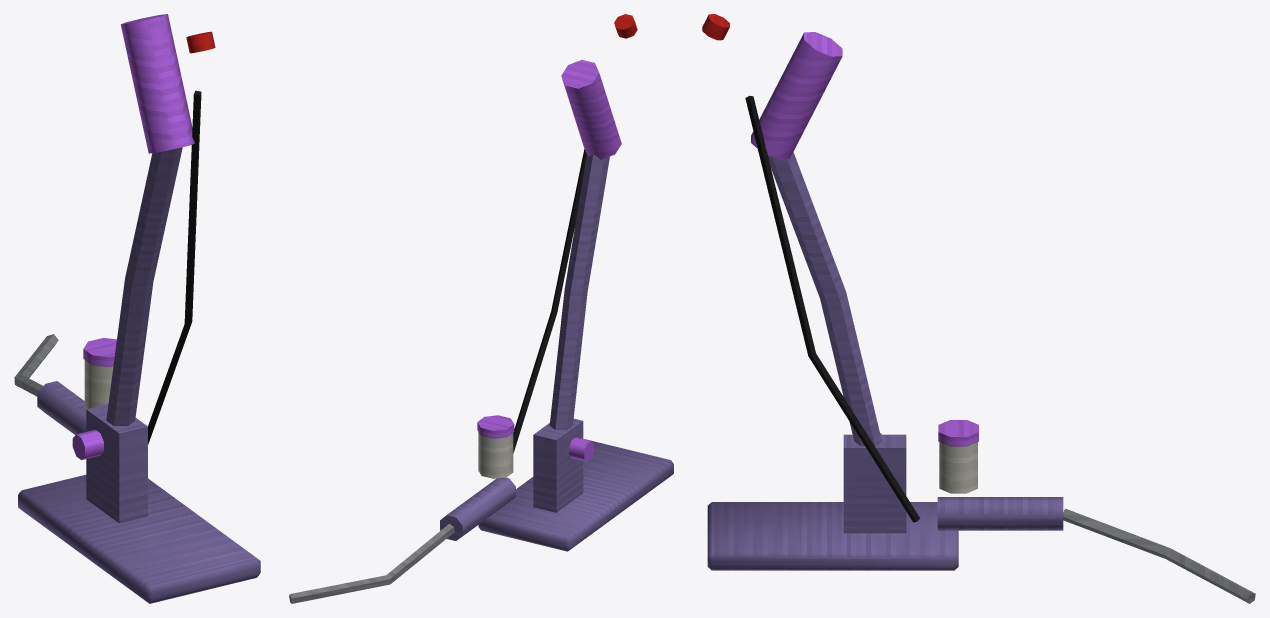
The model's file is freio_mao_n5.glb.
The picture shows the model from 3 angles, left to right: view 1: azimuth 30°, elevation 25°; view 2: azimuth 150°, elevation 25°; view 3: azimuth 270°, elevation 25°; orthographic projection. The views are drawn at different scales.
Visible parts, largest first — view 1: freio_mao_n5; view 2: freio_mao_n5; view 3: freio_mao_n5.
Boxes of the visible parts, x1=… form: freio_mao_n5: x1=14, y1=14, x2=260, y2=603; freio_mao_n5: x1=289, y1=14, x2=673, y2=603; freio_mao_n5: x1=702, y1=14, x2=1255, y2=603.
Size of the model in its own units: 0.2043 by 0.5583 by 0.5289.
2 materials, 2 textured.
